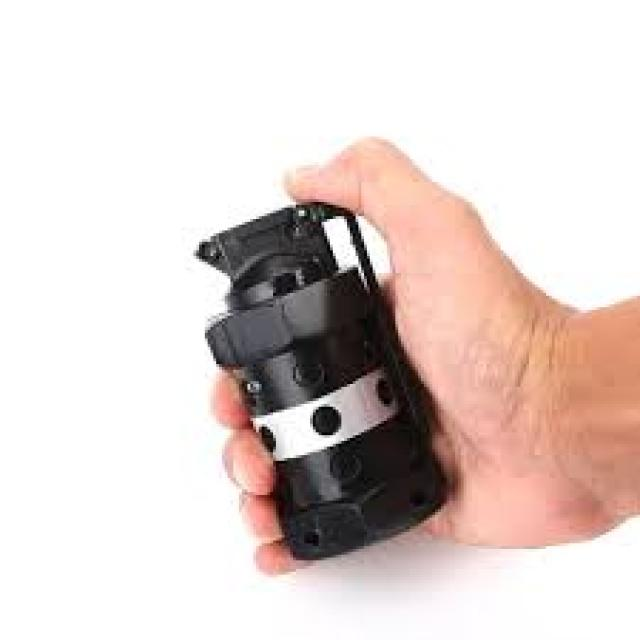grenade: (191, 198, 457, 569)
